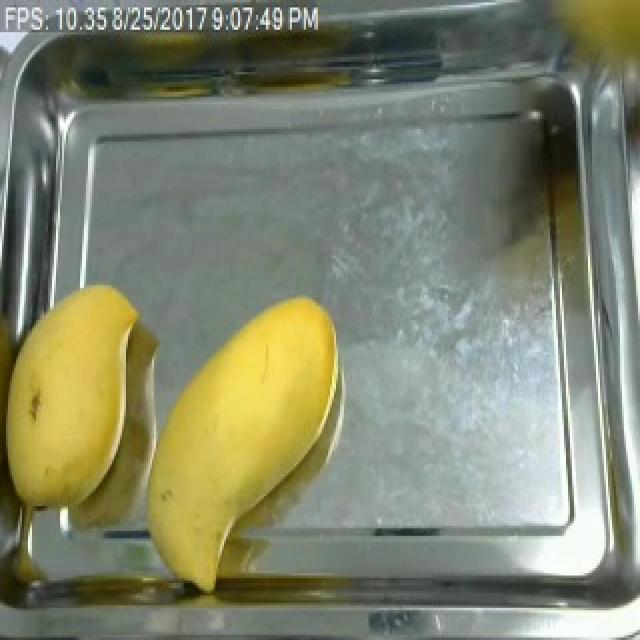fruit: (132, 288, 348, 605), (0, 278, 138, 521)
